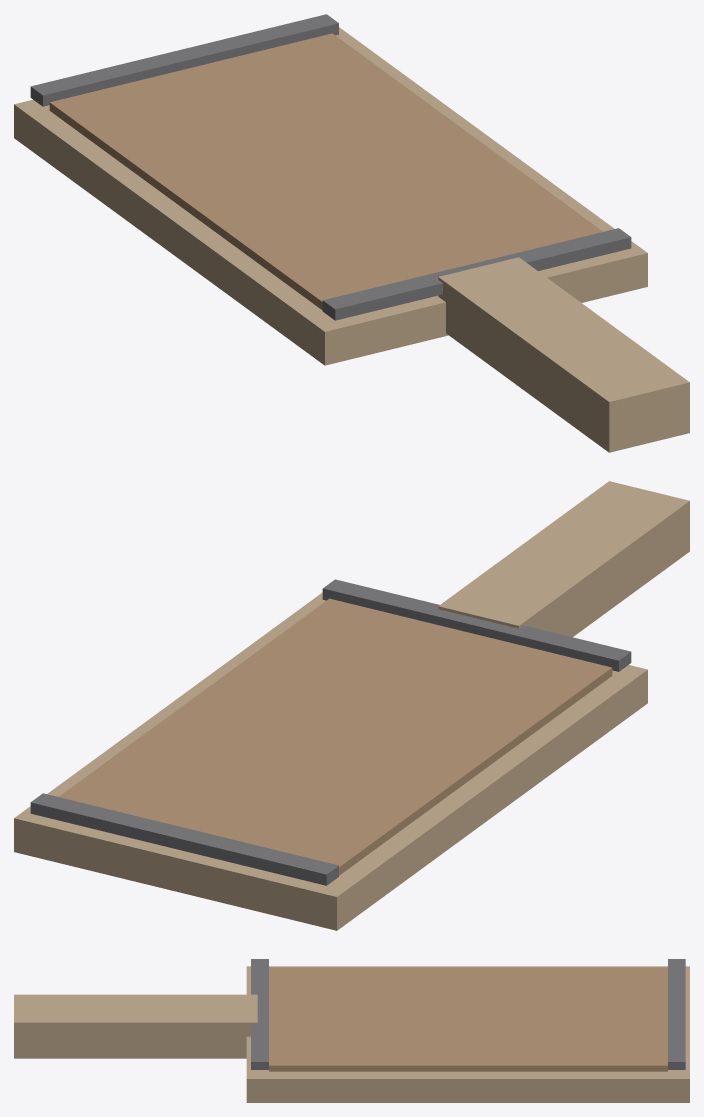
The model's file is prop-carding-board-blank.fbx.
The picture shows the model from 3 angles, top to bottom: view 1: azimuth 30°, elevation 25°; view 2: azimuth 150°, elevation 25°; view 3: azimuth 270°, elevation 25°; orthographic projection. The views are drawn at different scales.
Visible parts, largest first — view 1: prop-carding-board-blank; view 2: prop-carding-board-blank; view 3: prop-carding-board-blank.
Part boxes in pixels (bbox=[...]): prop-carding-board-blank: bbox=[14, 14, 689, 452]; prop-carding-board-blank: bbox=[14, 481, 689, 930]; prop-carding-board-blank: bbox=[14, 959, 689, 1102].
Bounding box in the file's own units: 12 × 1.9 × 30.5.
